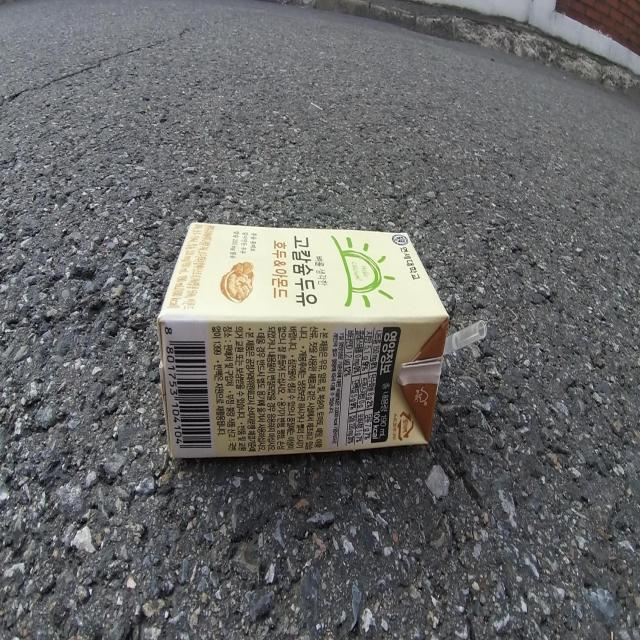paperpack: (157, 222, 449, 458)
